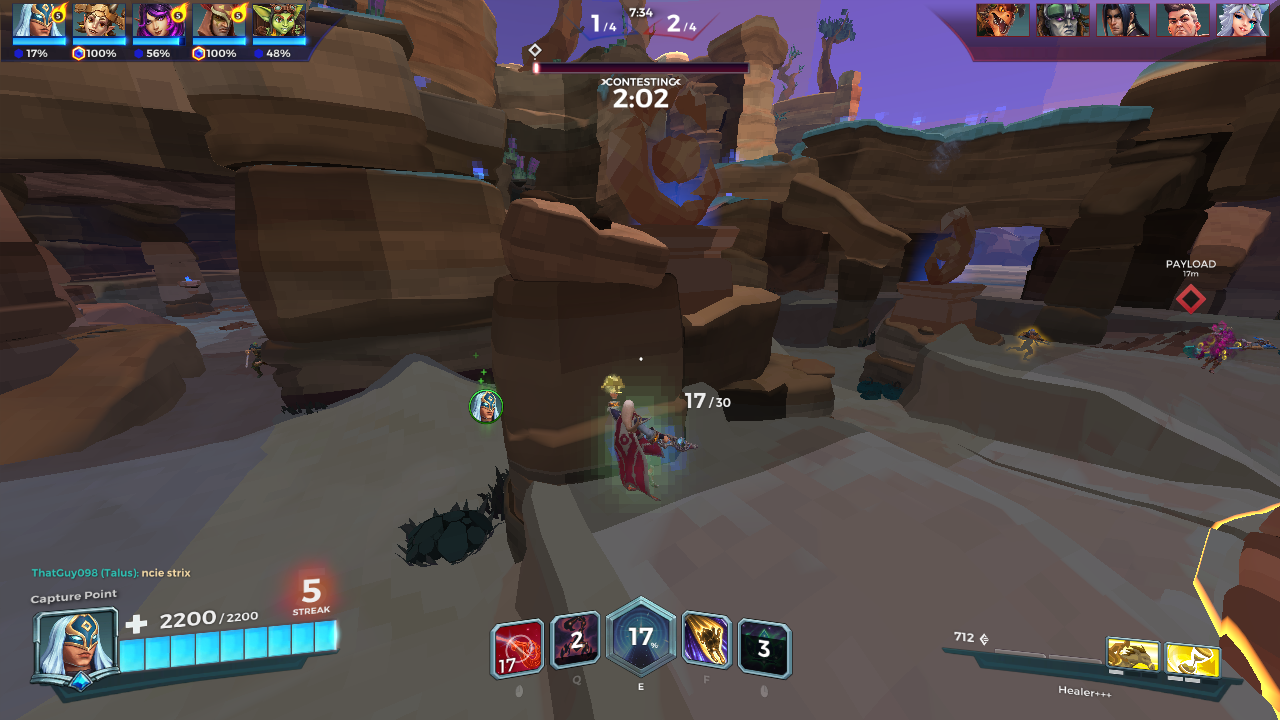model: (1008, 320, 1046, 366)
